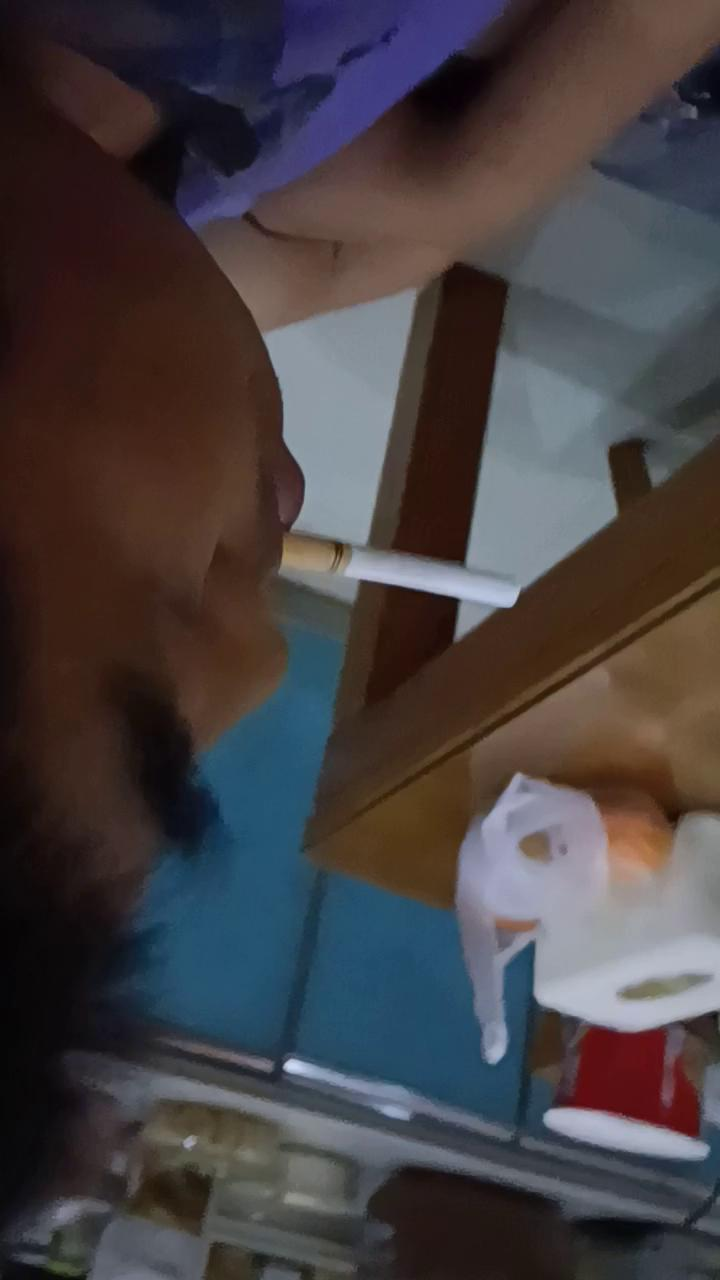smoke: (279, 532, 525, 610)
